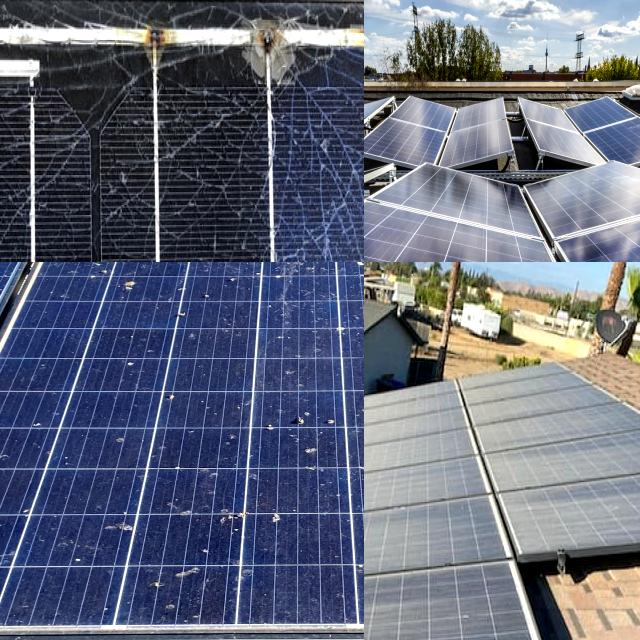bird: (247, 22, 304, 84), (136, 8, 185, 76)
dust: (107, 353, 326, 560), (0, 358, 77, 621), (80, 262, 325, 332), (522, 426, 640, 540), (104, 576, 326, 623), (364, 575, 499, 640), (364, 512, 497, 553), (472, 368, 550, 433), (364, 448, 472, 489), (364, 398, 464, 434), (364, 539, 432, 580), (364, 496, 420, 519), (364, 412, 392, 448), (364, 464, 417, 479)
